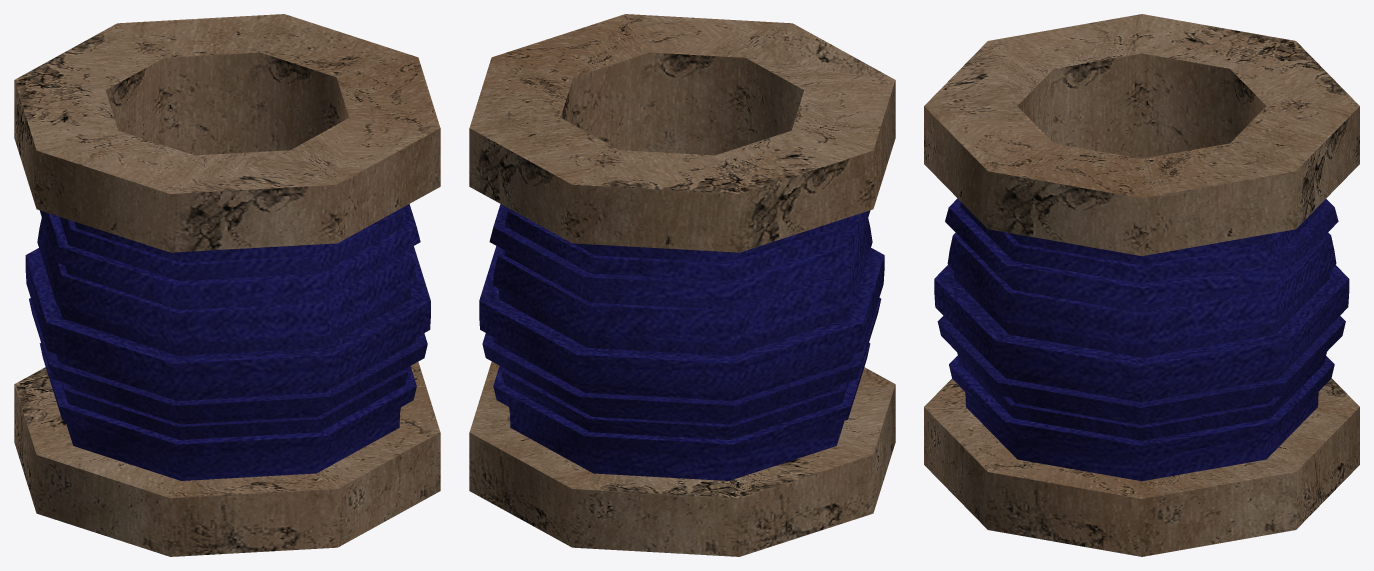
File: CarreteEstambreAzul.fbx
3 renders of one model, left to right at view 1: azimuth 30°, elevation 25°; view 2: azimuth 150°, elevation 25°; view 3: azimuth 270°, elevation 25°, orthographic.
Visible parts, largest first — view 1: CarreteHilo; view 2: CarreteHilo; view 3: CarreteHilo.
Part boxes in pixels (x1=…): CarreteHilo: x1=14, y1=14, x2=440, y2=556; CarreteHilo: x1=469, y1=14, x2=895, y2=556; CarreteHilo: x1=924, y1=14, x2=1359, y2=556.
Size of the model in its own units: 116 by 105 by 116.
1 material, 1 textured.
